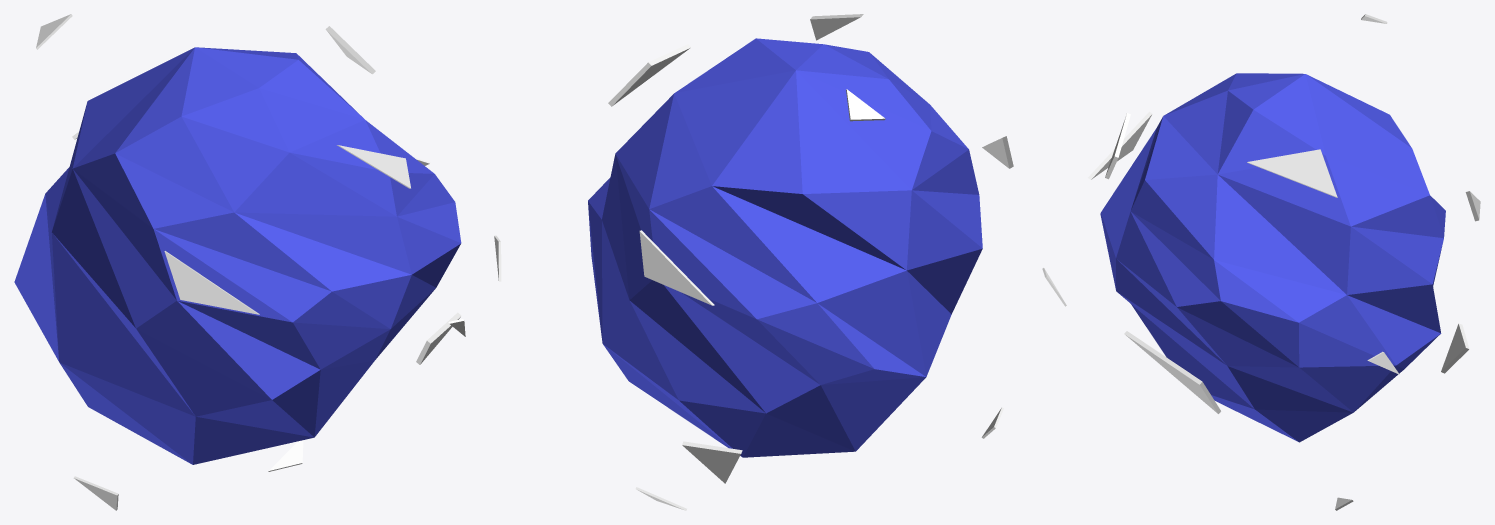
The model's file is Planet_06_b.fbx.
The picture shows the model from 3 angles, left to right: view 1: azimuth 30°, elevation 25°; view 2: azimuth 150°, elevation 25°; view 3: azimuth 270°, elevation 25°; orthographic projection. The views are drawn at different scales.
Parts seen in each view (by area): view 1: Planet_011; view 2: Planet_011; view 3: Planet_011.
Part boxes in pixels (x1,y1,x2,y2): Planet_011: (14,14,465,510); Planet_011: (494,14,1013,510); Planet_011: (1042,14,1480,510).
Size of the model in its own units: 82.65 by 88.65 by 85.69.
